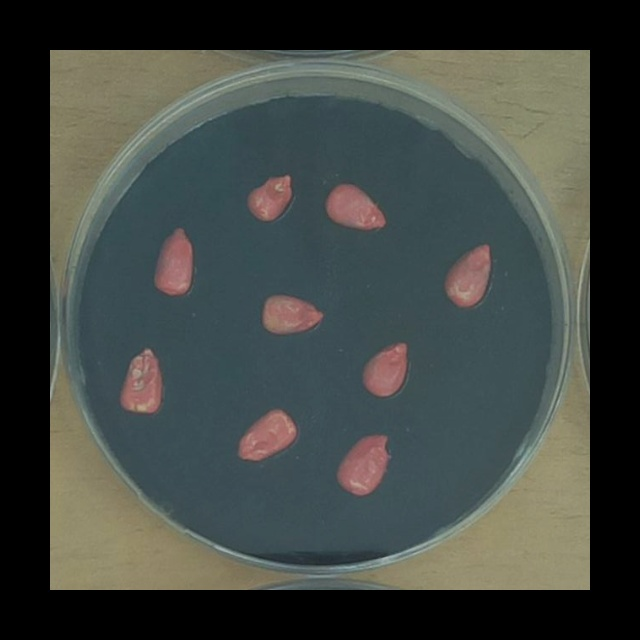Zea mays: (330, 426, 397, 501), (230, 402, 303, 470), (437, 235, 499, 314), (318, 174, 393, 238), (113, 340, 168, 420), (148, 221, 199, 301), (255, 287, 329, 341), (356, 336, 416, 402), (239, 167, 299, 231)
